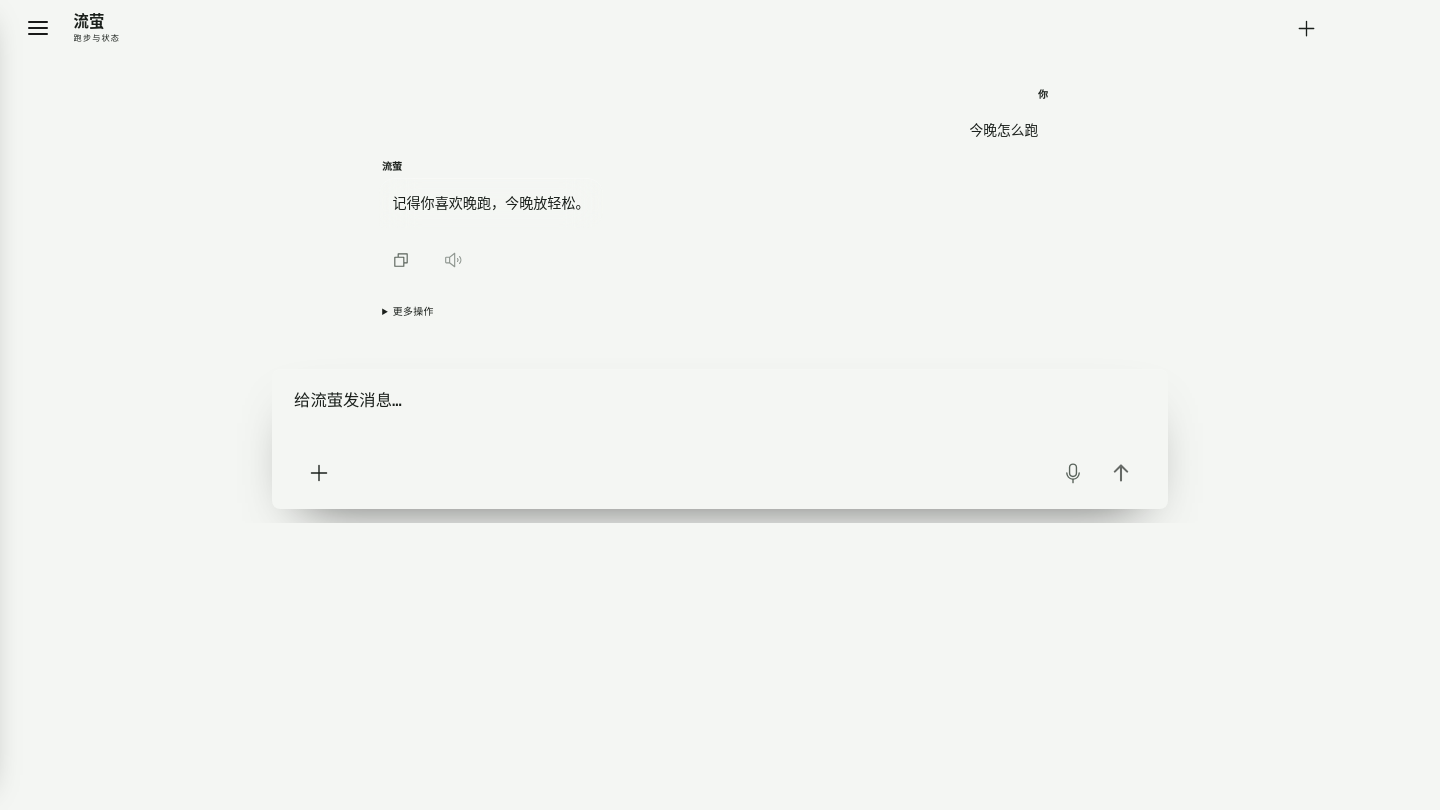
it: 回答复制只写剪贴板，聊天区不再显示知识库选择
Step 1. Click the button named "复制回答" → (401, 260), box [379, 238, 423, 282]
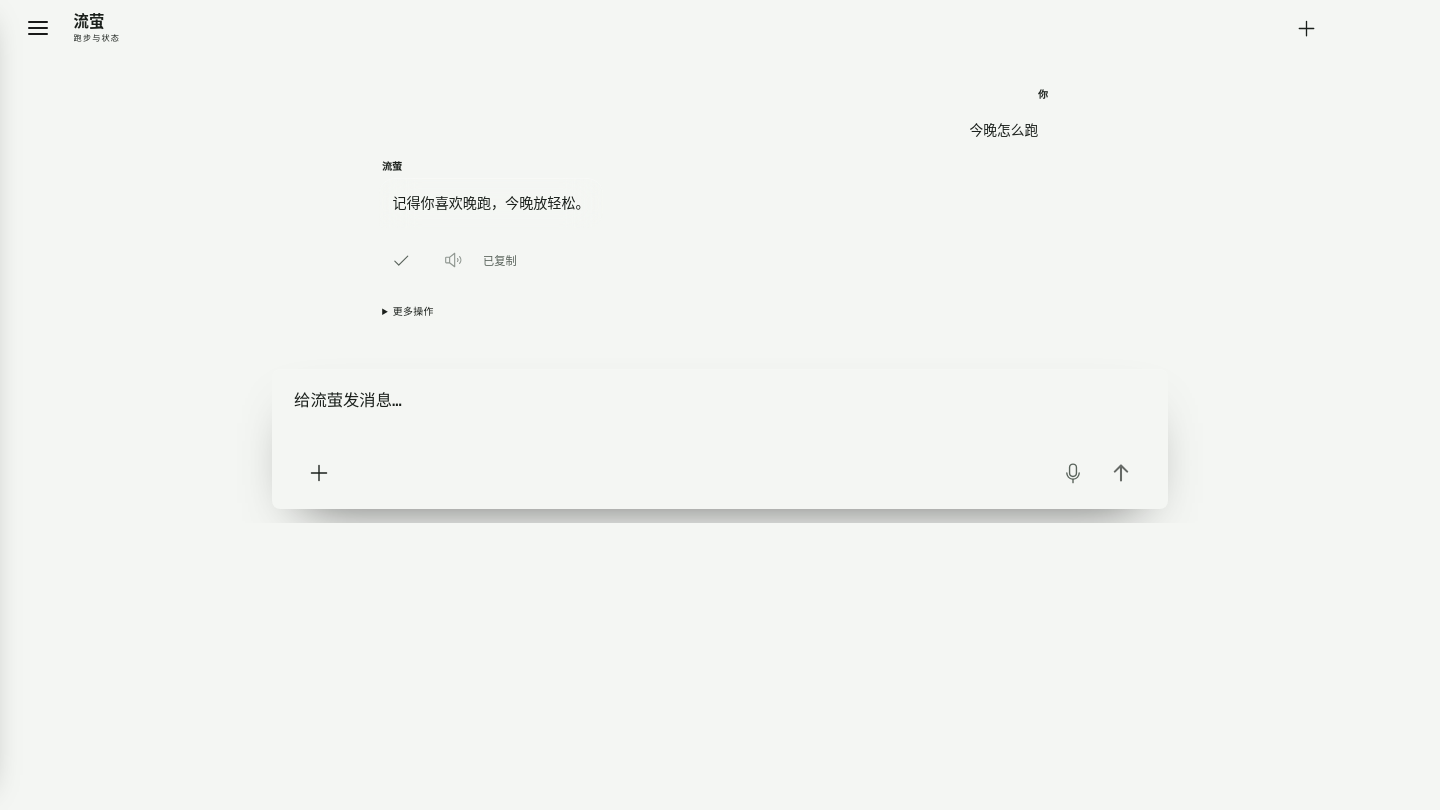
Check: the text "已复制" is shown, box [483, 250, 517, 270]
